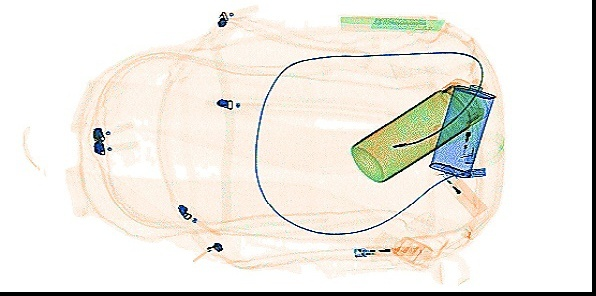lighter: (433, 163, 487, 218), (458, 104, 485, 164), (350, 243, 420, 258)
zippooil: (426, 77, 496, 177)
